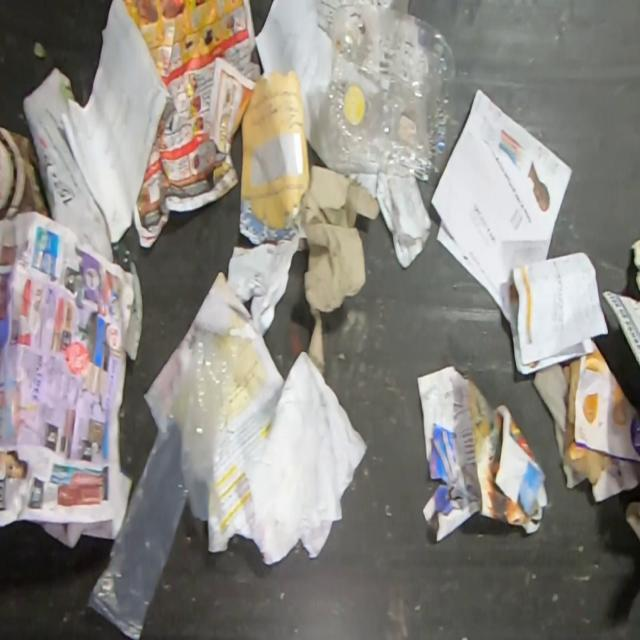cardboard: (0, 128, 53, 222)
rigid_plastic: (323, 0, 458, 183)
soft_plastic: (86, 333, 240, 639)
